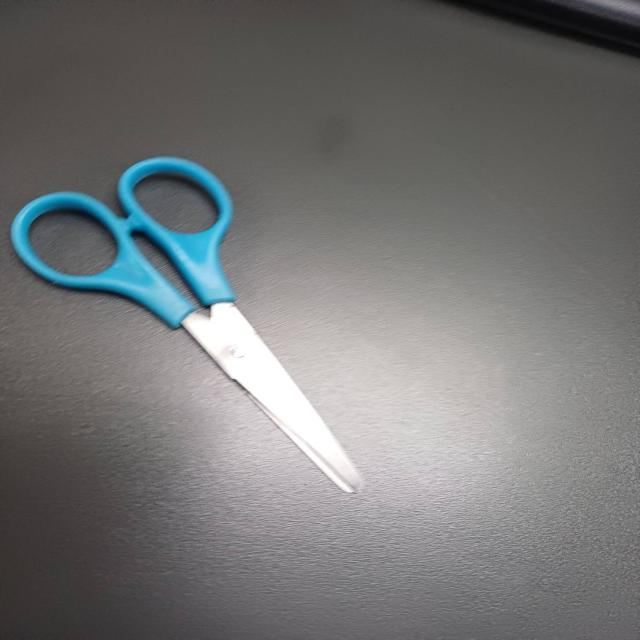scissors: (7, 150, 377, 510)
